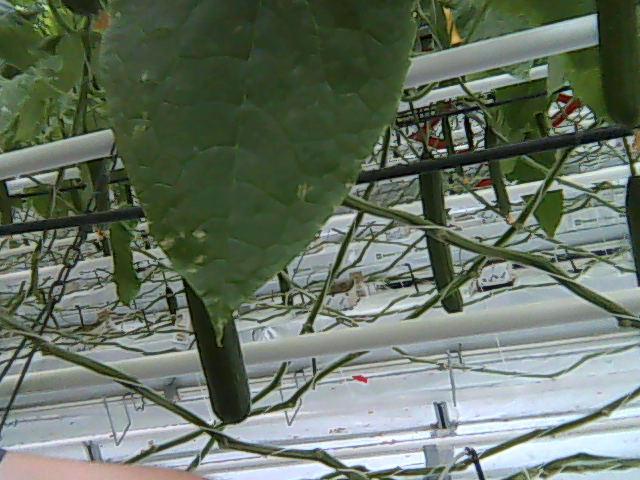concombre: (179, 276, 256, 432)
